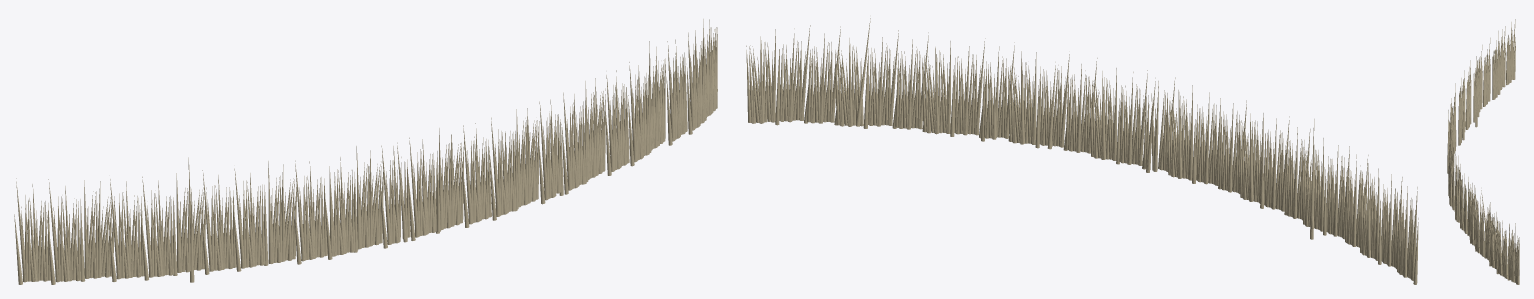
File: Bristles_v2.fbx
The picture shows the model from 3 angles, left to right: view 1: azimuth 30°, elevation 25°; view 2: azimuth 150°, elevation 25°; view 3: azimuth 270°, elevation 25°; orthographic projection. The views are drawn at different scales.
Parts seen in each view (by area): view 1: pCone388; view 2: pCone388; view 3: pCone388.
Boxes of the visible parts, x1,y1,x2,y2 form: pCone388: [14, 19, 717, 284]; pCone388: [746, 18, 1418, 284]; pCone388: [1447, 19, 1519, 284].
Bounding box in the file's own units: 1.1 × 0.1909 × 0.1606.
